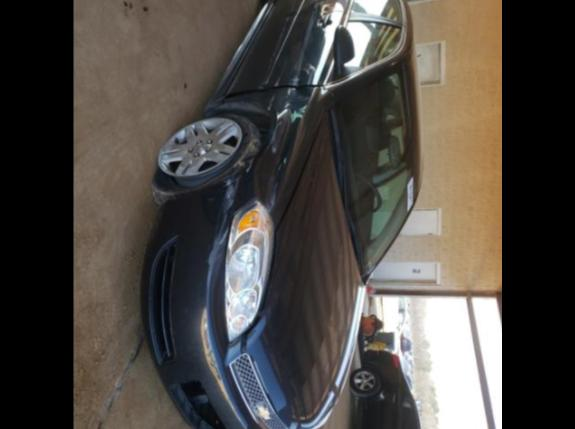Broken part: (237, 124, 322, 408), (150, 113, 259, 203), (221, 82, 324, 101), (229, 160, 259, 215)
Dent: (211, 85, 323, 117), (242, 154, 272, 202)
Missing part: (169, 380, 229, 429)
Scratch: (265, 93, 276, 111), (273, 74, 282, 87)
